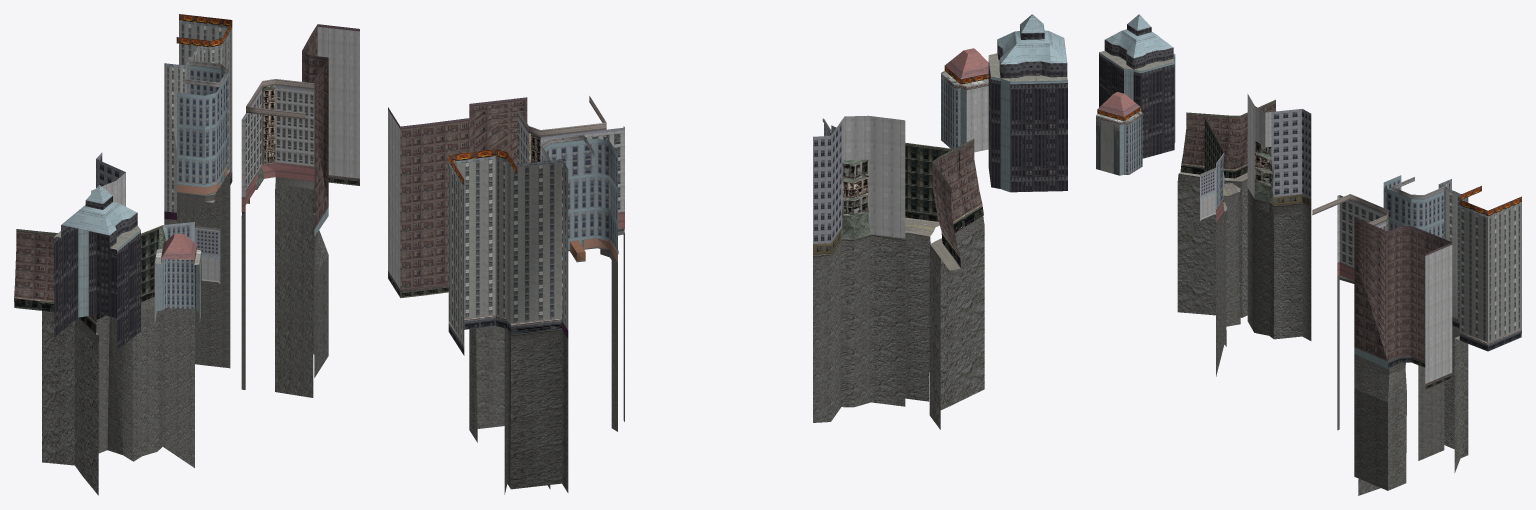
The model's file is STG0100_OS_13.fbx.
The picture shows the model from 3 angles, left to right: view 1: azimuth 30°, elevation 25°; view 2: azimuth 150°, elevation 25°; view 3: azimuth 270°, elevation 25°; orthographic projection. The views are drawn at different scales.
Visible parts, largest first — view 1: STG0100_OS_13_default; view 2: STG0100_OS_13_default; view 3: STG0100_OS_13_default.
Part boxes in pixels (x1,y1,x2,y2): STG0100_OS_13_default: [14, 14, 359, 495]; STG0100_OS_13_default: [388, 14, 1067, 494]; STG0100_OS_13_default: [1096, 14, 1521, 495].
Bounding box in the file's own units: 3266 × 2613 × 2985.
